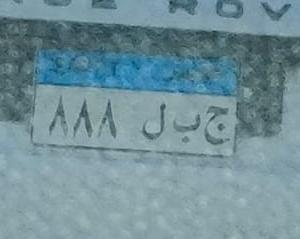8: (96, 99, 120, 143), (70, 99, 94, 143), (46, 95, 68, 138)
baa: (171, 109, 200, 146)
jeem: (202, 105, 233, 150)
laam: (141, 101, 168, 145)
